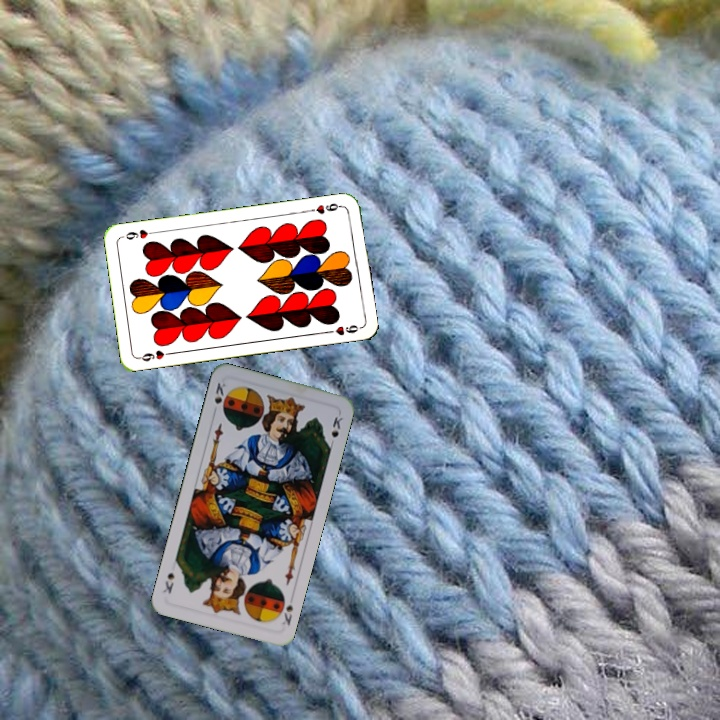H9: (135, 346, 175, 364), (305, 199, 345, 216)
SK: (210, 378, 228, 406), (278, 600, 296, 628)
